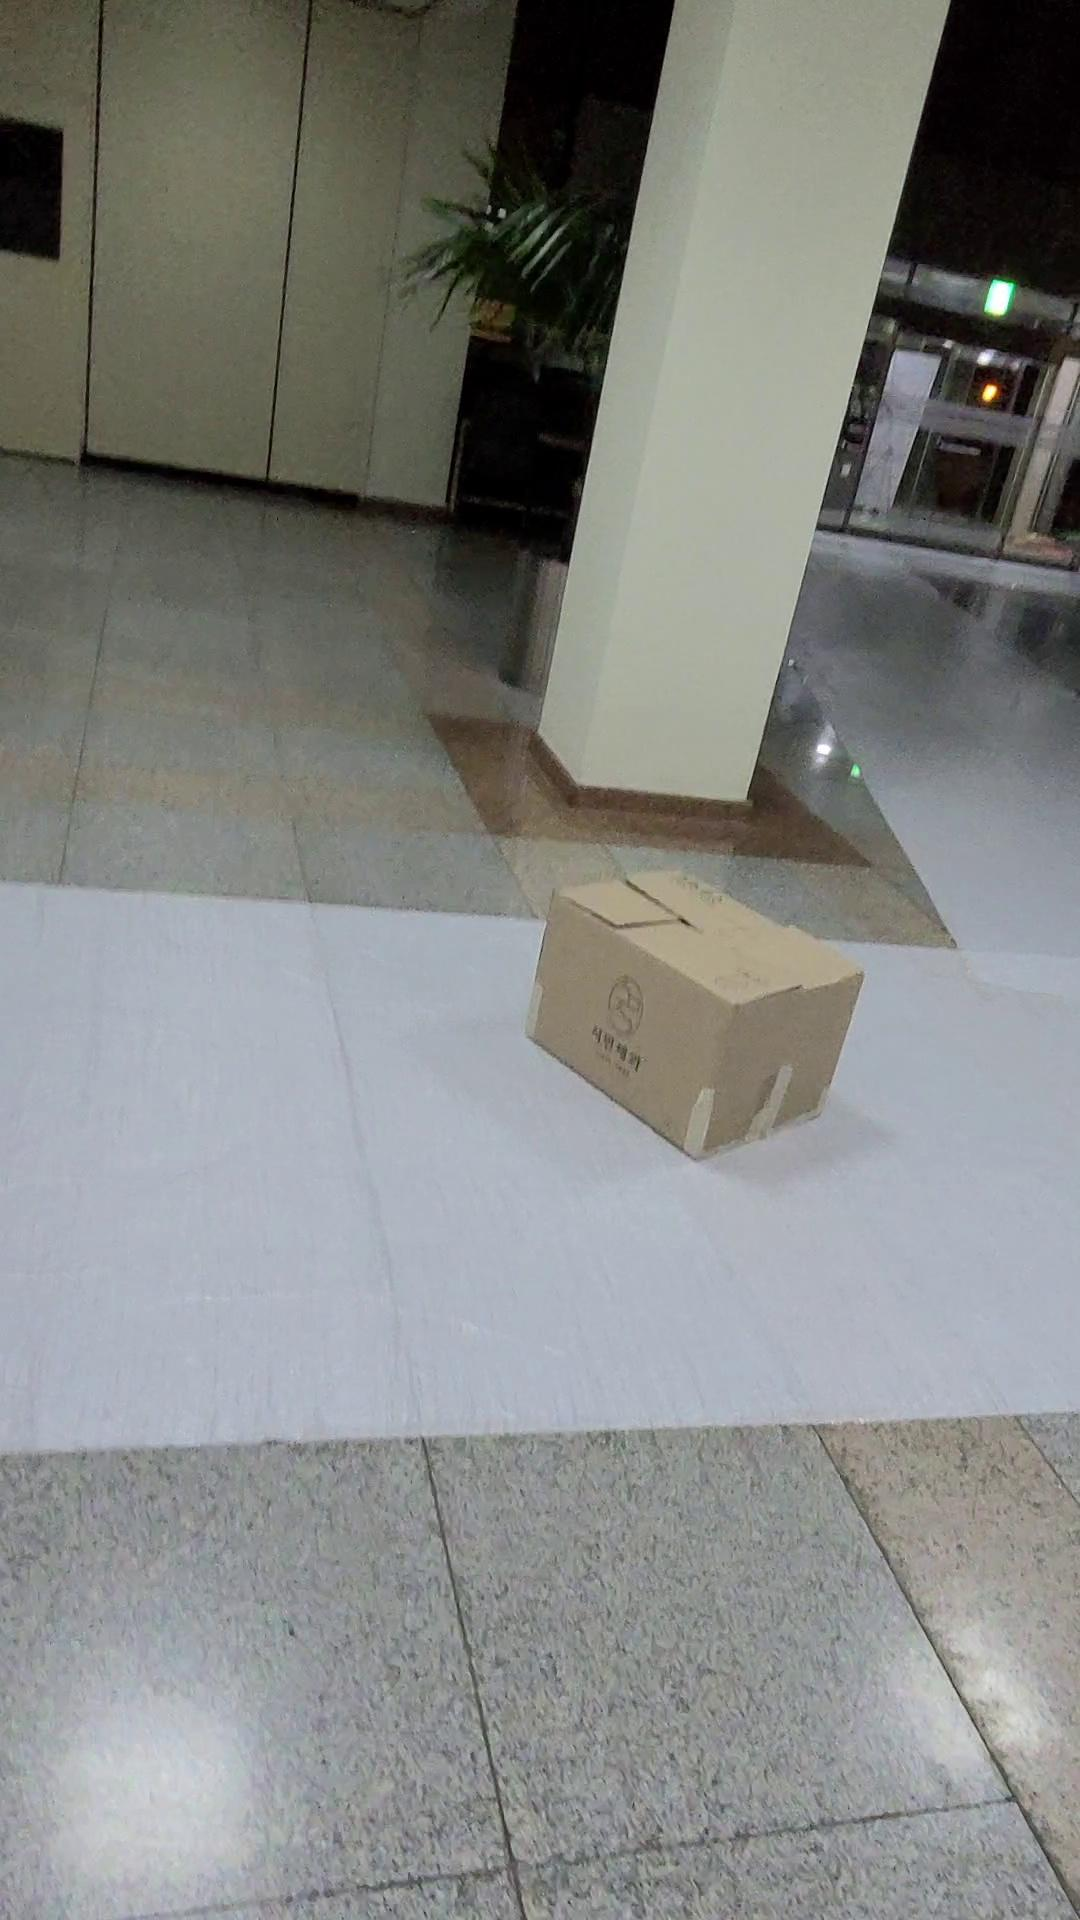Box: (493, 845, 905, 1185)
